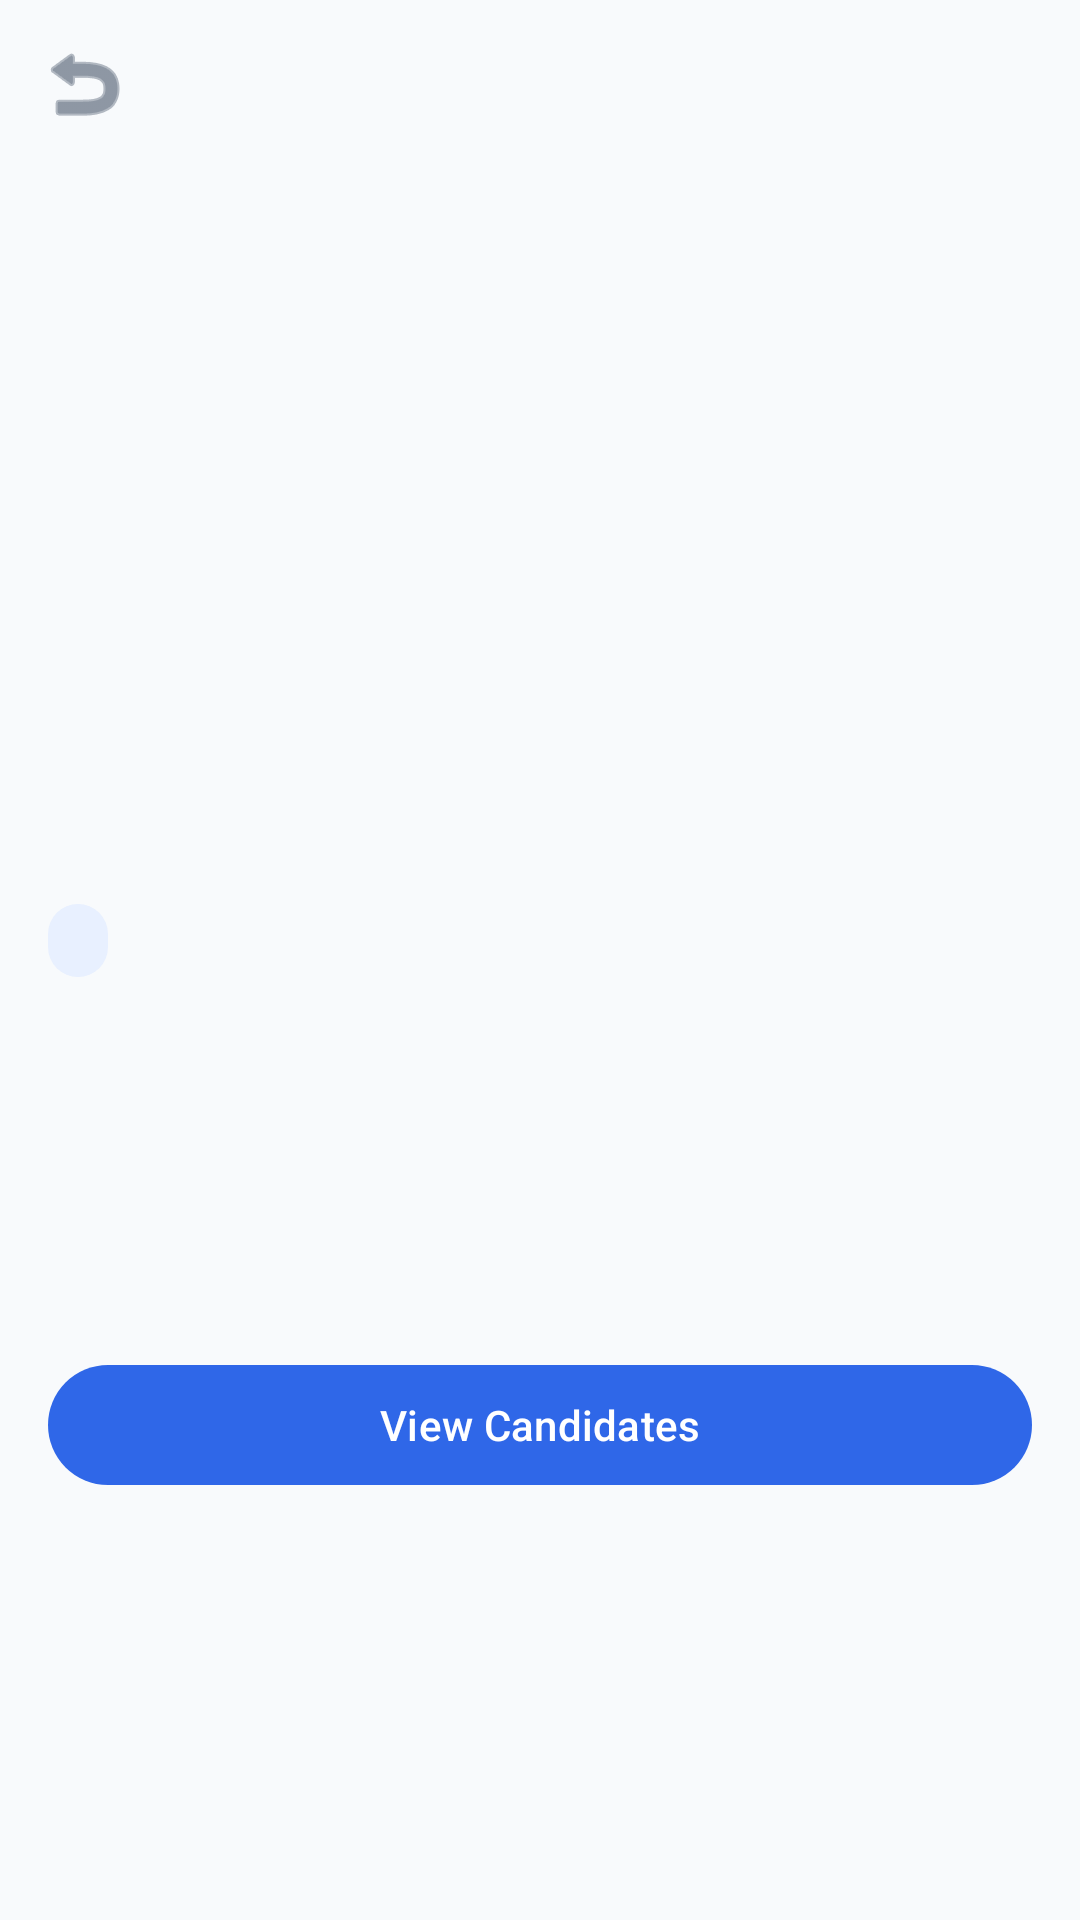

Screen size 1080×1920. Icon name, then its center in pixels as [x,y]:
Back: [85,84]
